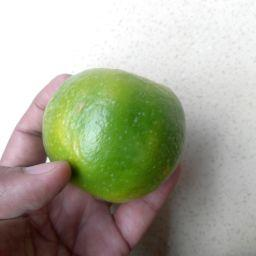Unripe: (45, 69, 188, 191)
